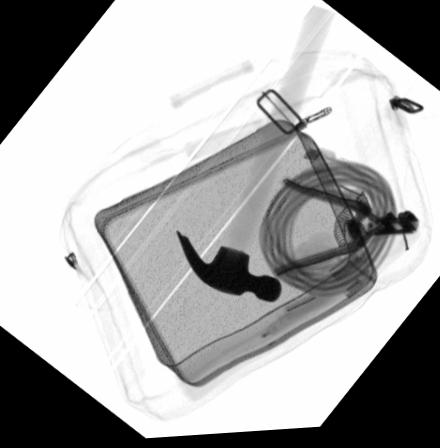Hammer: (174, 8, 333, 307)
Pliers: (271, 180, 419, 284)
